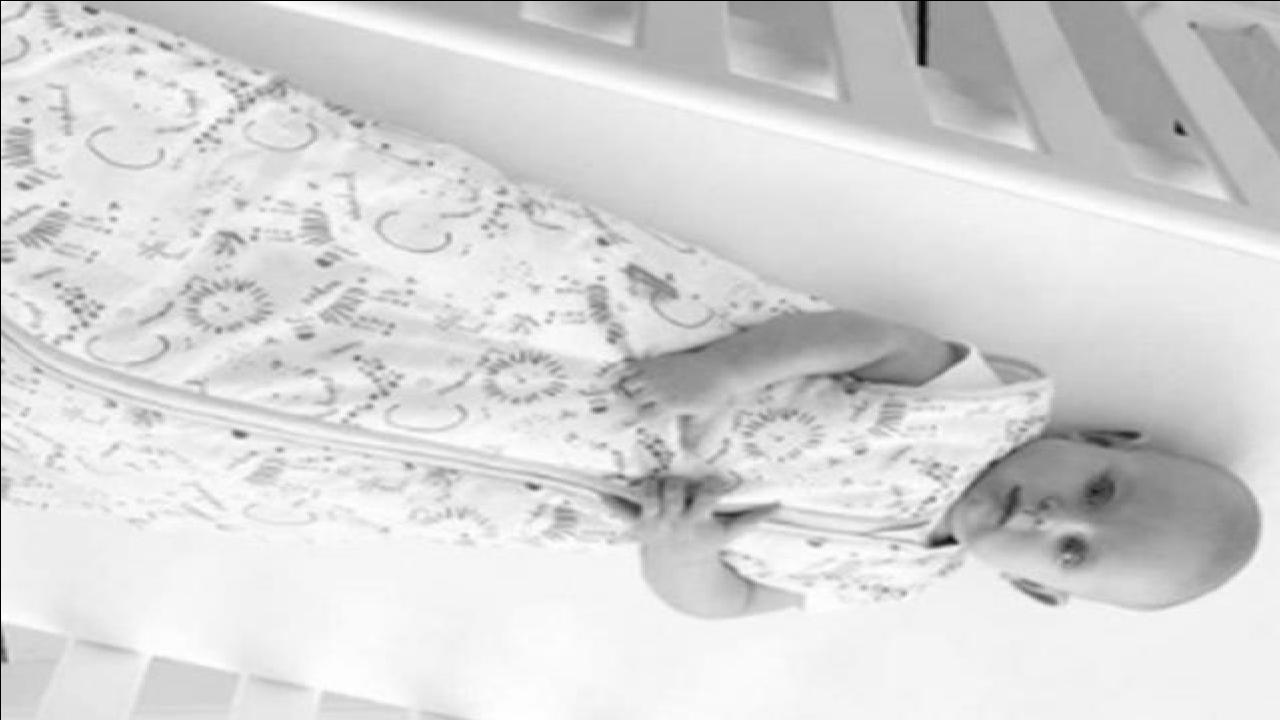hand: (597, 476, 777, 556), (619, 351, 735, 449)
